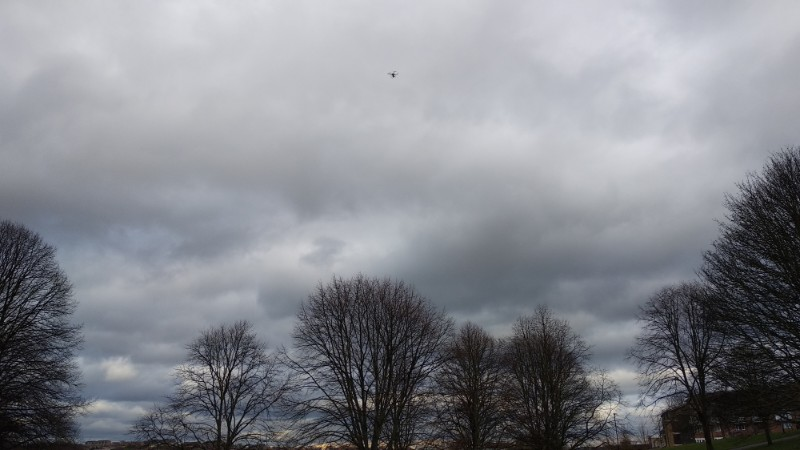drone: (388, 70, 398, 79)
